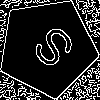S: (22, 22, 79, 78)
